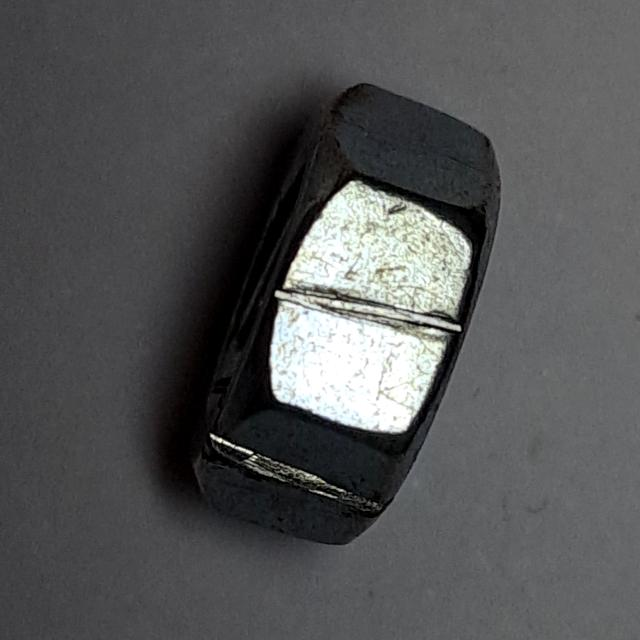Side_Scratches: (179, 73, 516, 569)
